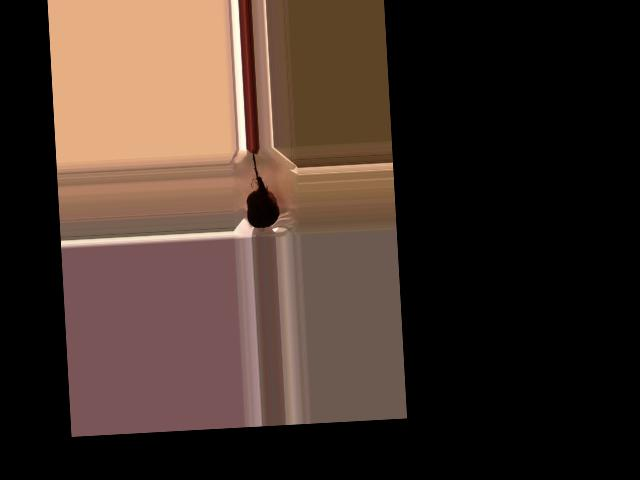beet: (244, 150, 280, 228)
